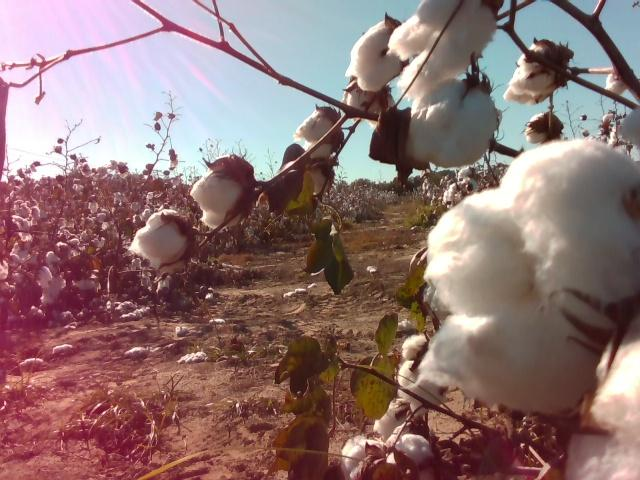cotton_ready: (419, 138, 640, 419), (562, 329, 640, 480), (389, 0, 494, 96), (406, 79, 499, 168), (342, 434, 437, 480), (503, 40, 564, 103), (350, 23, 404, 91), (191, 167, 244, 232), (132, 215, 192, 271), (398, 332, 445, 403), (347, 88, 398, 129), (296, 108, 336, 149), (375, 399, 410, 433), (614, 109, 640, 148), (523, 116, 554, 145)
